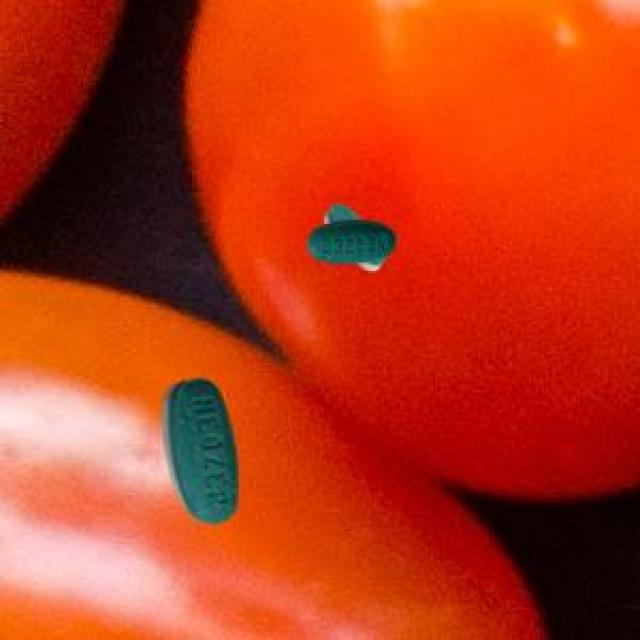Neozep: (151, 372, 247, 537), (296, 189, 395, 284)
